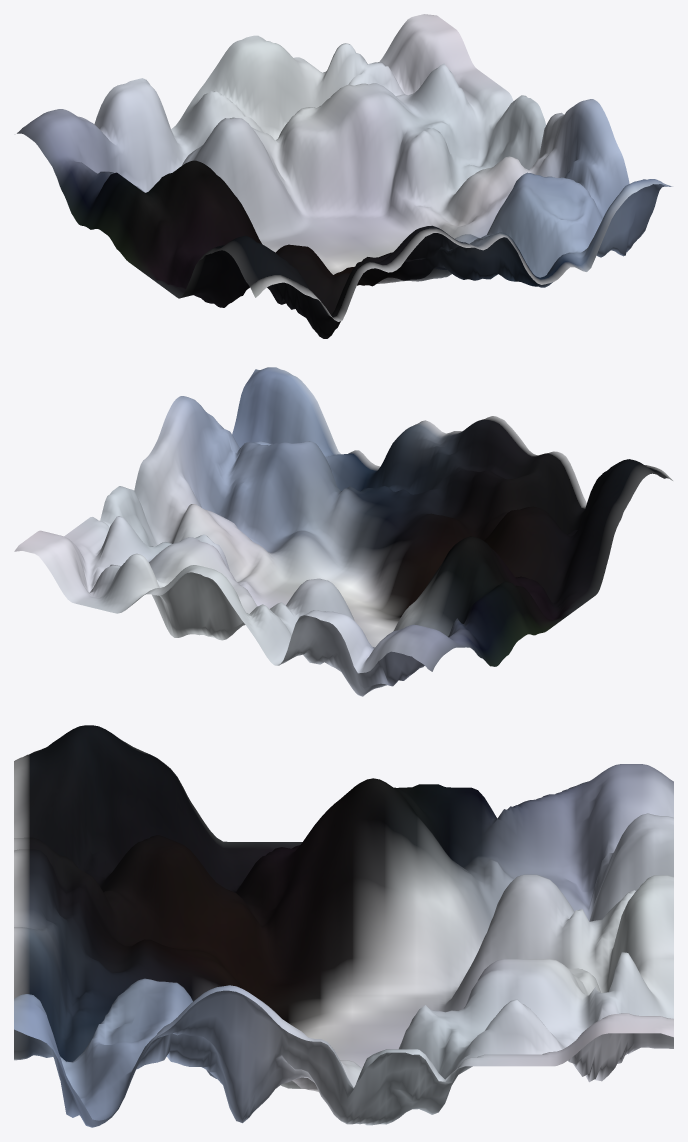
The model's file is trash.fbx.
3 views of the same model, one above another, from view 1: azimuth 30°, elevation 25°; view 2: azimuth 150°, elevation 25°; view 3: azimuth 270°, elevation 25° (orthographic). The views are drawn at different scales.
Visible parts, largest first — view 1: Hills; view 2: Hills; view 3: Hills.
Boxes of the visible parts, left/top/right/bottom form: Hills: left=17, top=14, right=672, bottom=338; Hills: left=14, top=367, right=672, bottom=696; Hills: left=14, top=725, right=673, bottom=1127.
Bounding box in the file's own units: 80 × 26.23 × 80.
